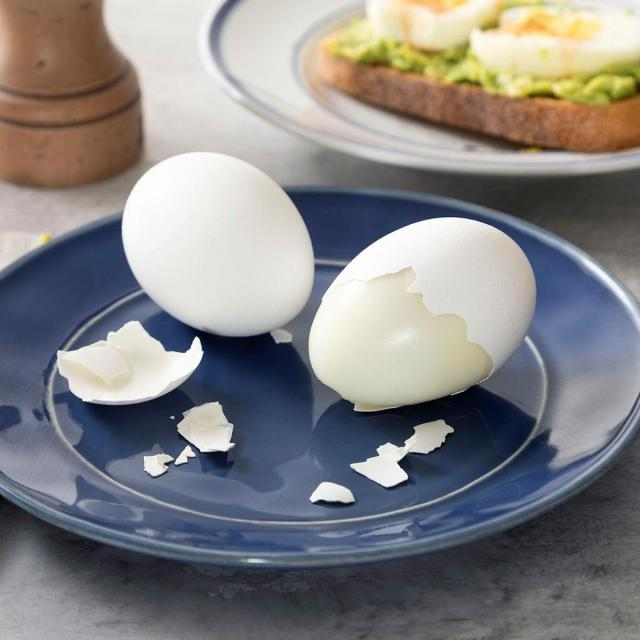boiled egg: (309, 218, 536, 411), (123, 152, 314, 336)
